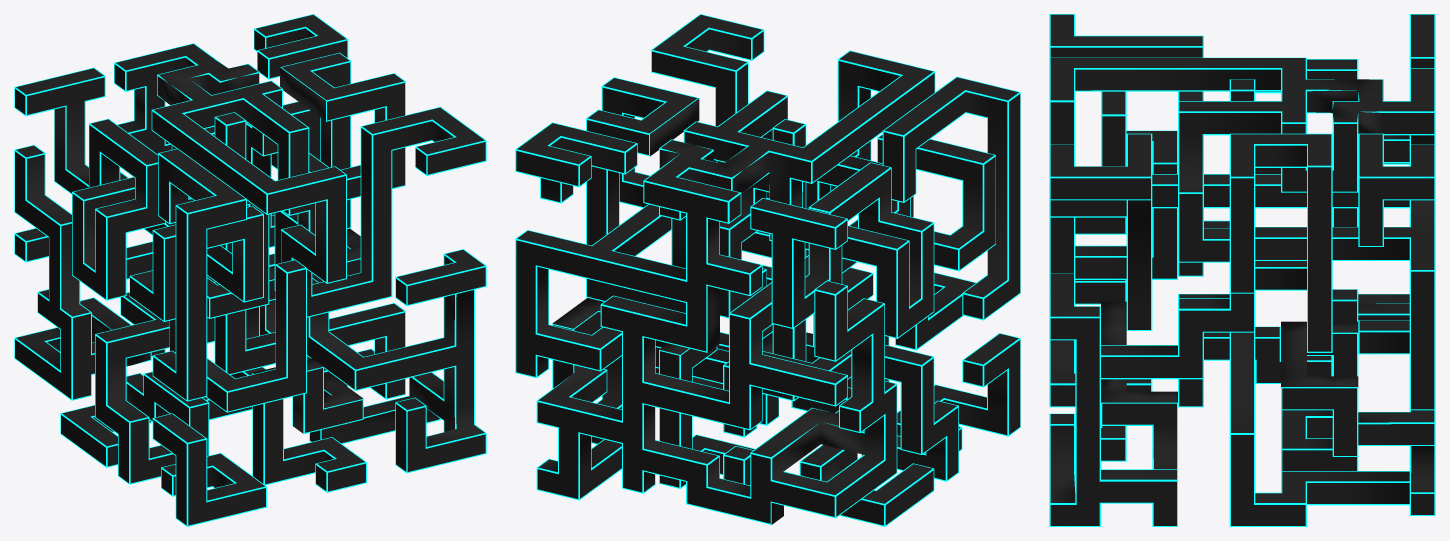
File: Level1-2.fbx
3 renders of one model, left to right at view 1: azimuth 30°, elevation 25°; view 2: azimuth 150°, elevation 25°; view 3: azimuth 270°, elevation 25°, orthographic. The views are drawn at different scales.
Visible parts, largest first — view 1: Cube_001, Cube_002, Cube, Cube_003, Cube_004; view 2: Cube_001, Cube_002, Cube, Cube_004, Cube_003; view 3: Cube_001, Cube, Cube_002, Cube_004, Cube_003.
Part boxes in pixels (bbox=[...]): Cube_001: bbox=[14, 43, 486, 492]; Cube_002: bbox=[152, 148, 269, 401]; Cube: bbox=[60, 292, 209, 484]; Cube_003: bbox=[152, 413, 266, 526]; Cube_004: bbox=[254, 14, 348, 79]; Cube_001: bbox=[515, 14, 995, 524]; Cube_002: bbox=[806, 76, 1020, 320]; Cube: bbox=[723, 344, 958, 526]; Cube_004: bbox=[515, 122, 637, 203]; Cube_003: bbox=[897, 333, 1020, 451]; Cube_001: bbox=[1049, 14, 1435, 526]; Cube: bbox=[1178, 261, 1358, 407]; Cube_002: bbox=[1049, 14, 1229, 276]; Cube_004: bbox=[1358, 133, 1435, 246]; Cube_003: bbox=[1049, 280, 1152, 407].
Bounding box in the file's own units: 480 × 480 × 480.
